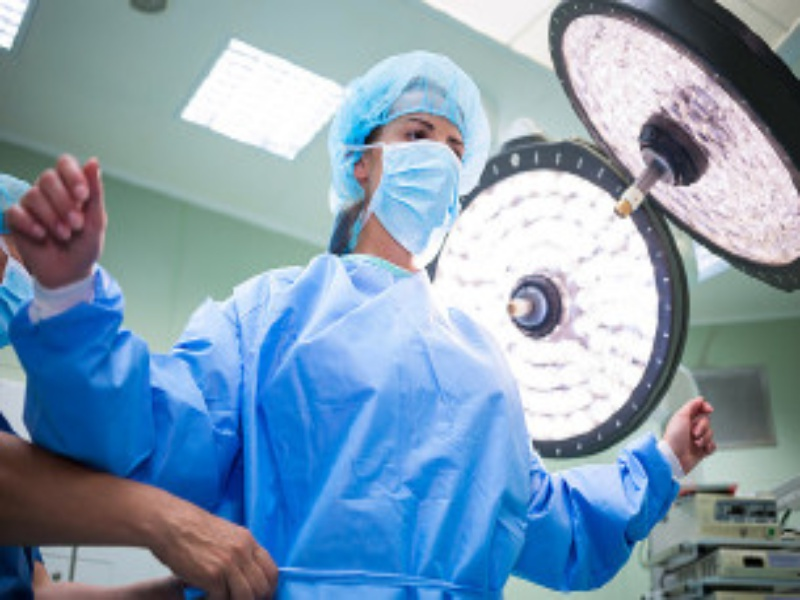mask: (328, 65, 480, 256)
